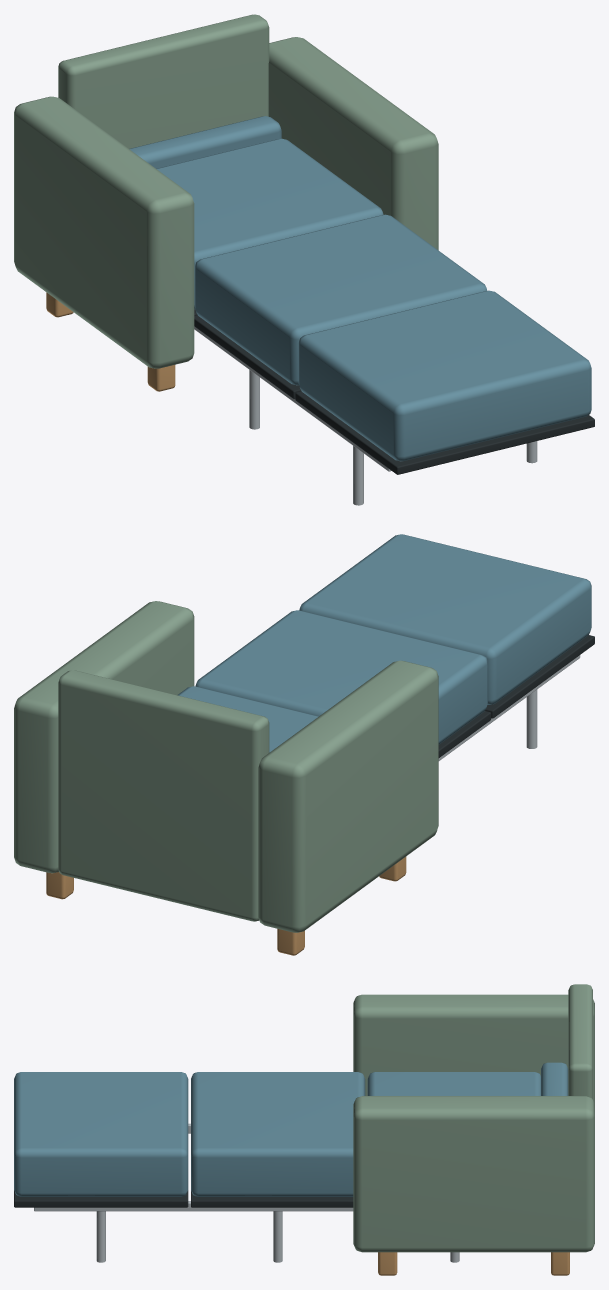
File: chair-sleeper-open.glb
3 views of the same model, one above another, from view 1: azimuth 30°, elevation 25°; view 2: azimuth 150°, elevation 25°; view 3: azimuth 270°, elevation 25° (orthographic). The views are drawn at different scales.
Visible parts, largest first — view 1: chair-sleeper-open authored assembly; view 2: chair-sleeper-open authored assembly; view 3: chair-sleeper-open authored assembly.
Boxes of the visible parts, bbox=[...] form: chair-sleeper-open authored assembly: bbox=[14, 14, 594, 505]; chair-sleeper-open authored assembly: bbox=[14, 534, 594, 955]; chair-sleeper-open authored assembly: bbox=[14, 984, 594, 1275].
Size of the model in its own units: 1.06 by 0.82 by 2.15.
